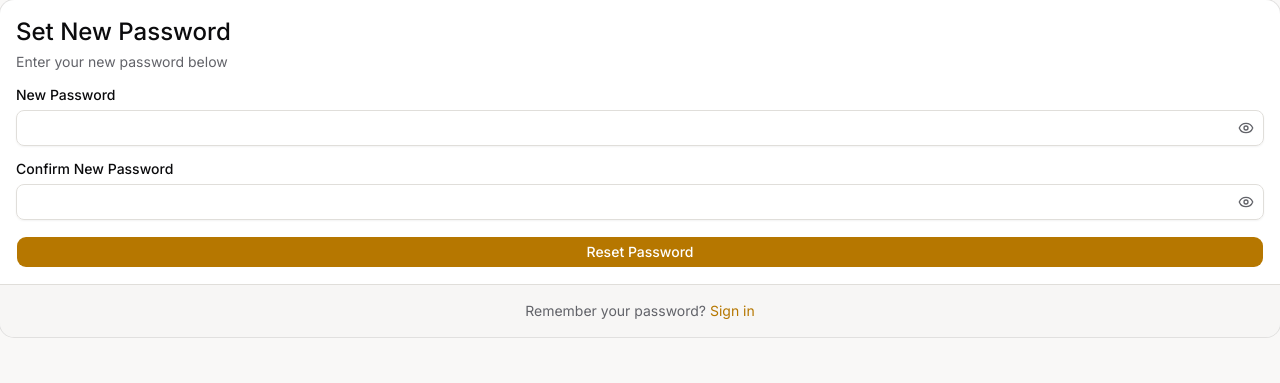
ResetPasswordForm › Validation › shows validation error when passwords don't match
Type "validpassword123" into the password field labelled "New Password" at (640, 128), box top-left (16, 110), bottom-right (1264, 146)
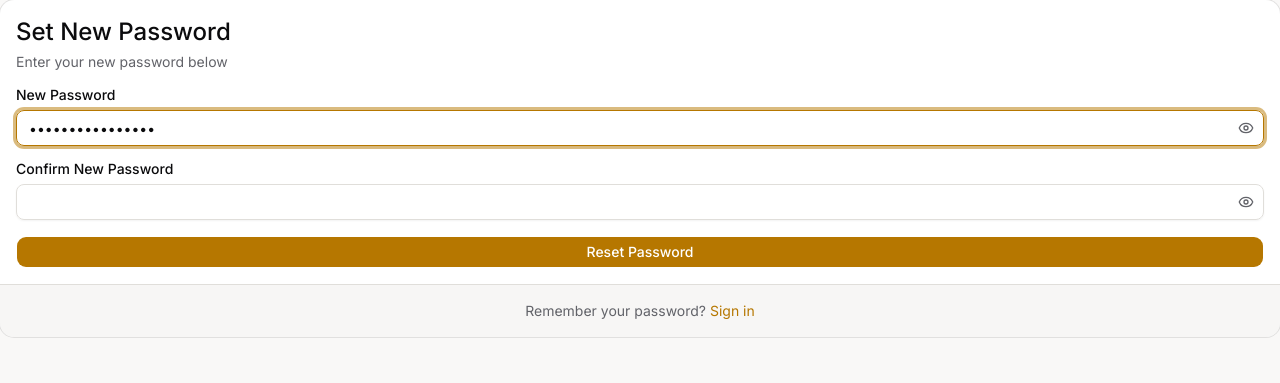
Type "differentpassword" into the password field labelled "Confirm New Password" at (640, 202), box top-left (16, 184), bottom-right (1264, 220)
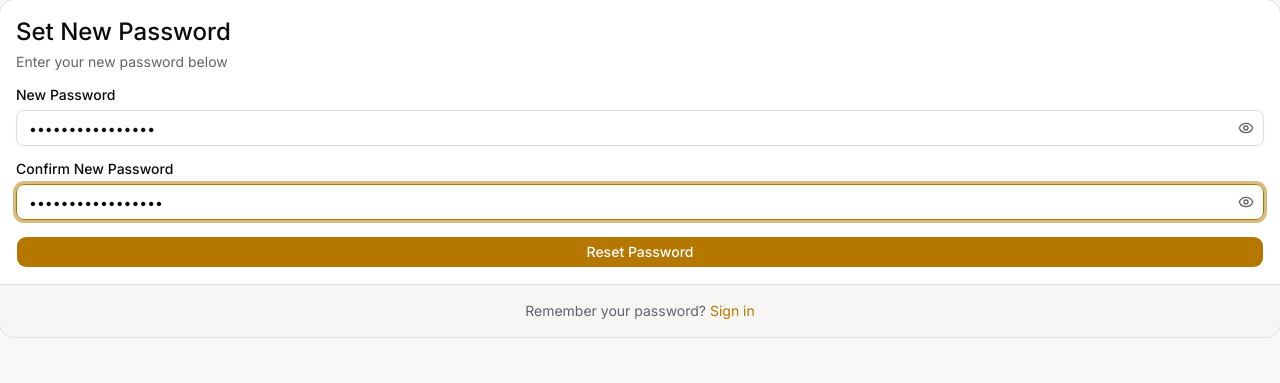
Click the button "Reset Password" at (640, 252), box top-left (16, 236), bottom-right (1264, 268)
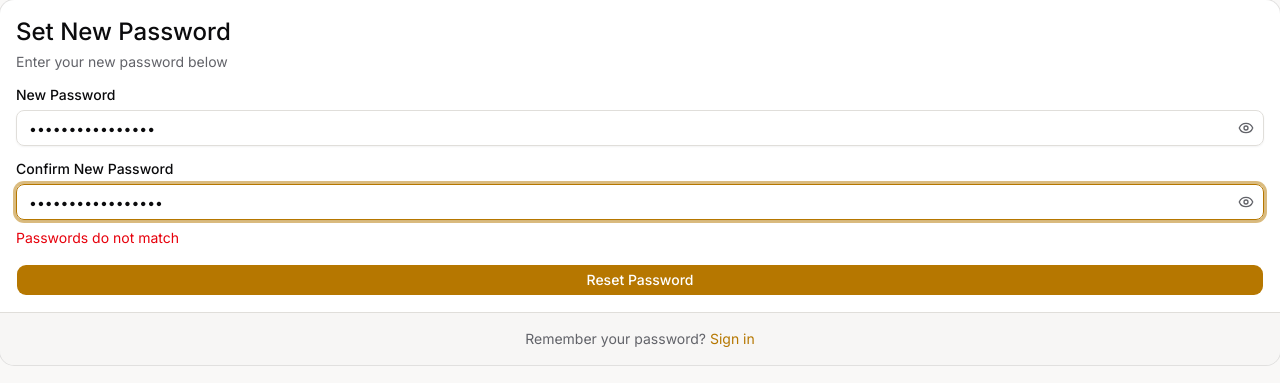
Expected: the text "Passwords do not match" is shown, top-left (16, 229), bottom-right (179, 246)
